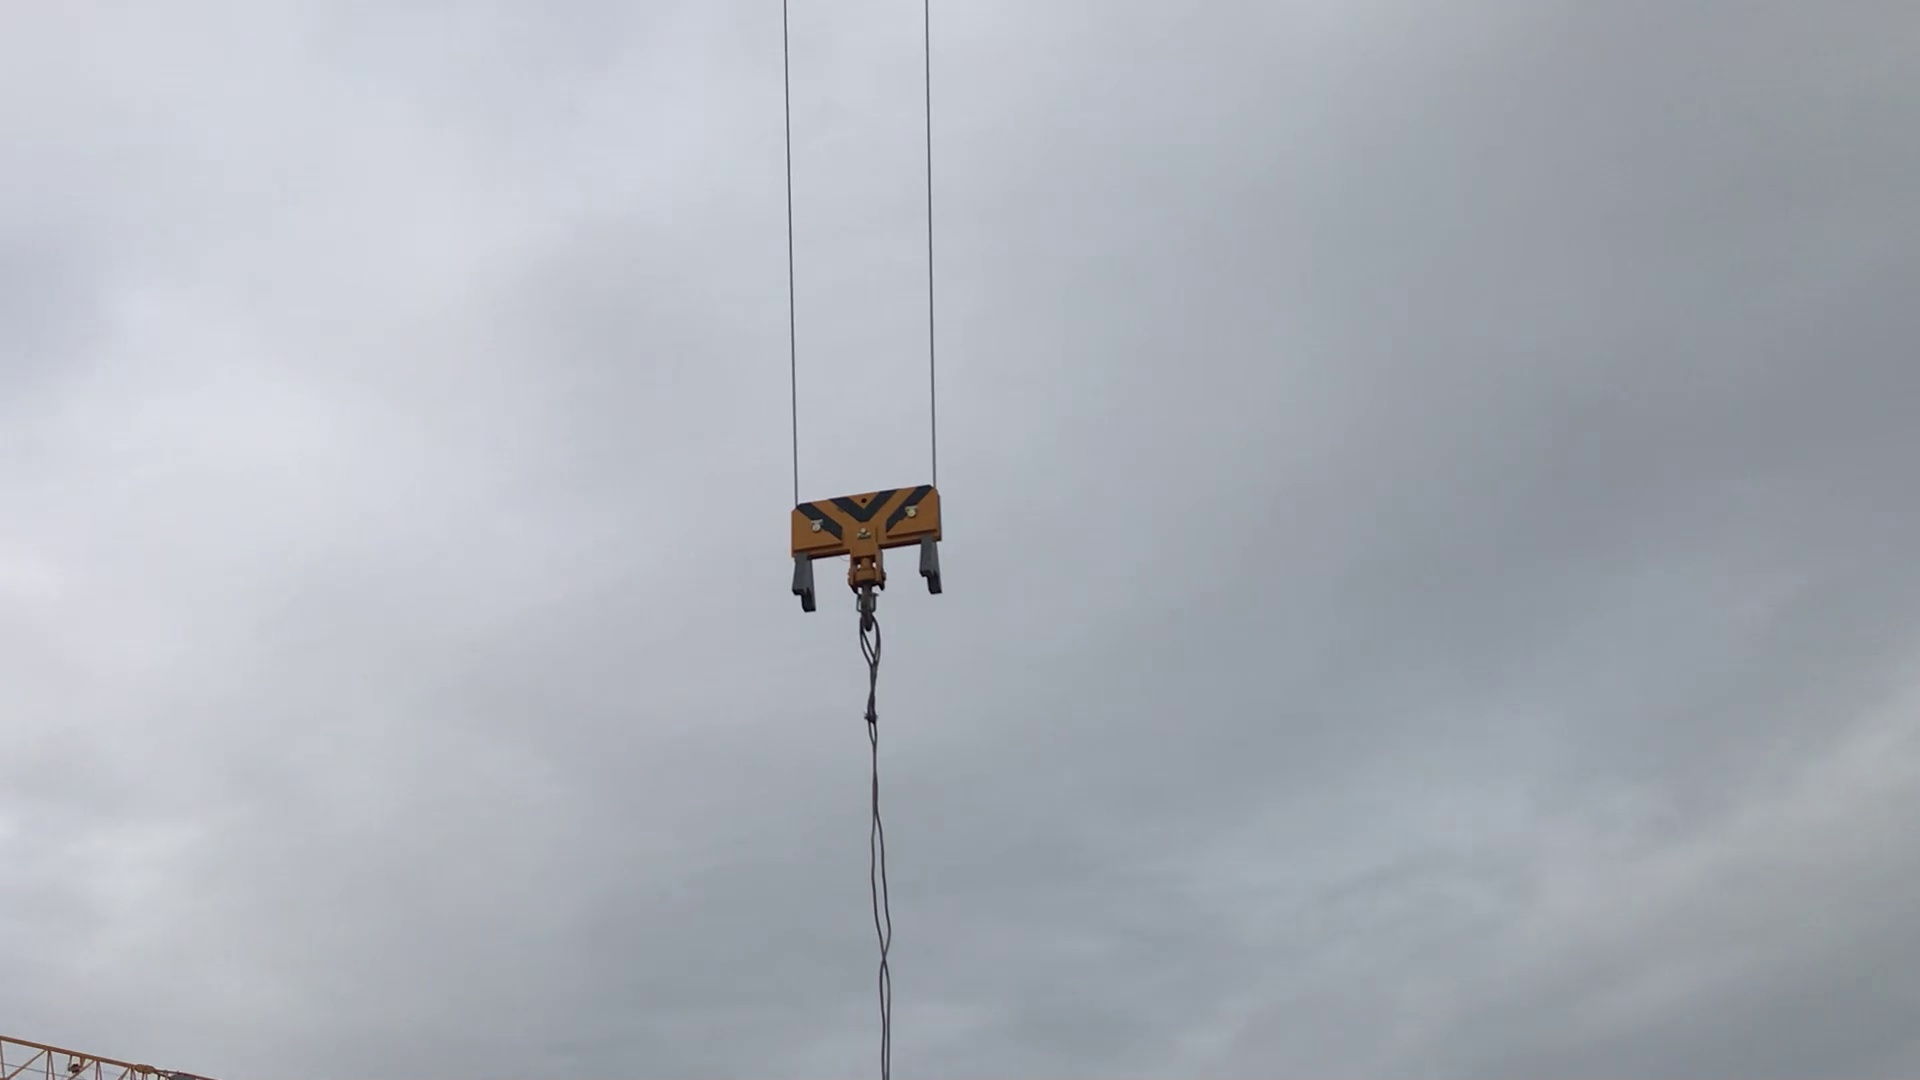hook: (779, 447, 956, 622)
